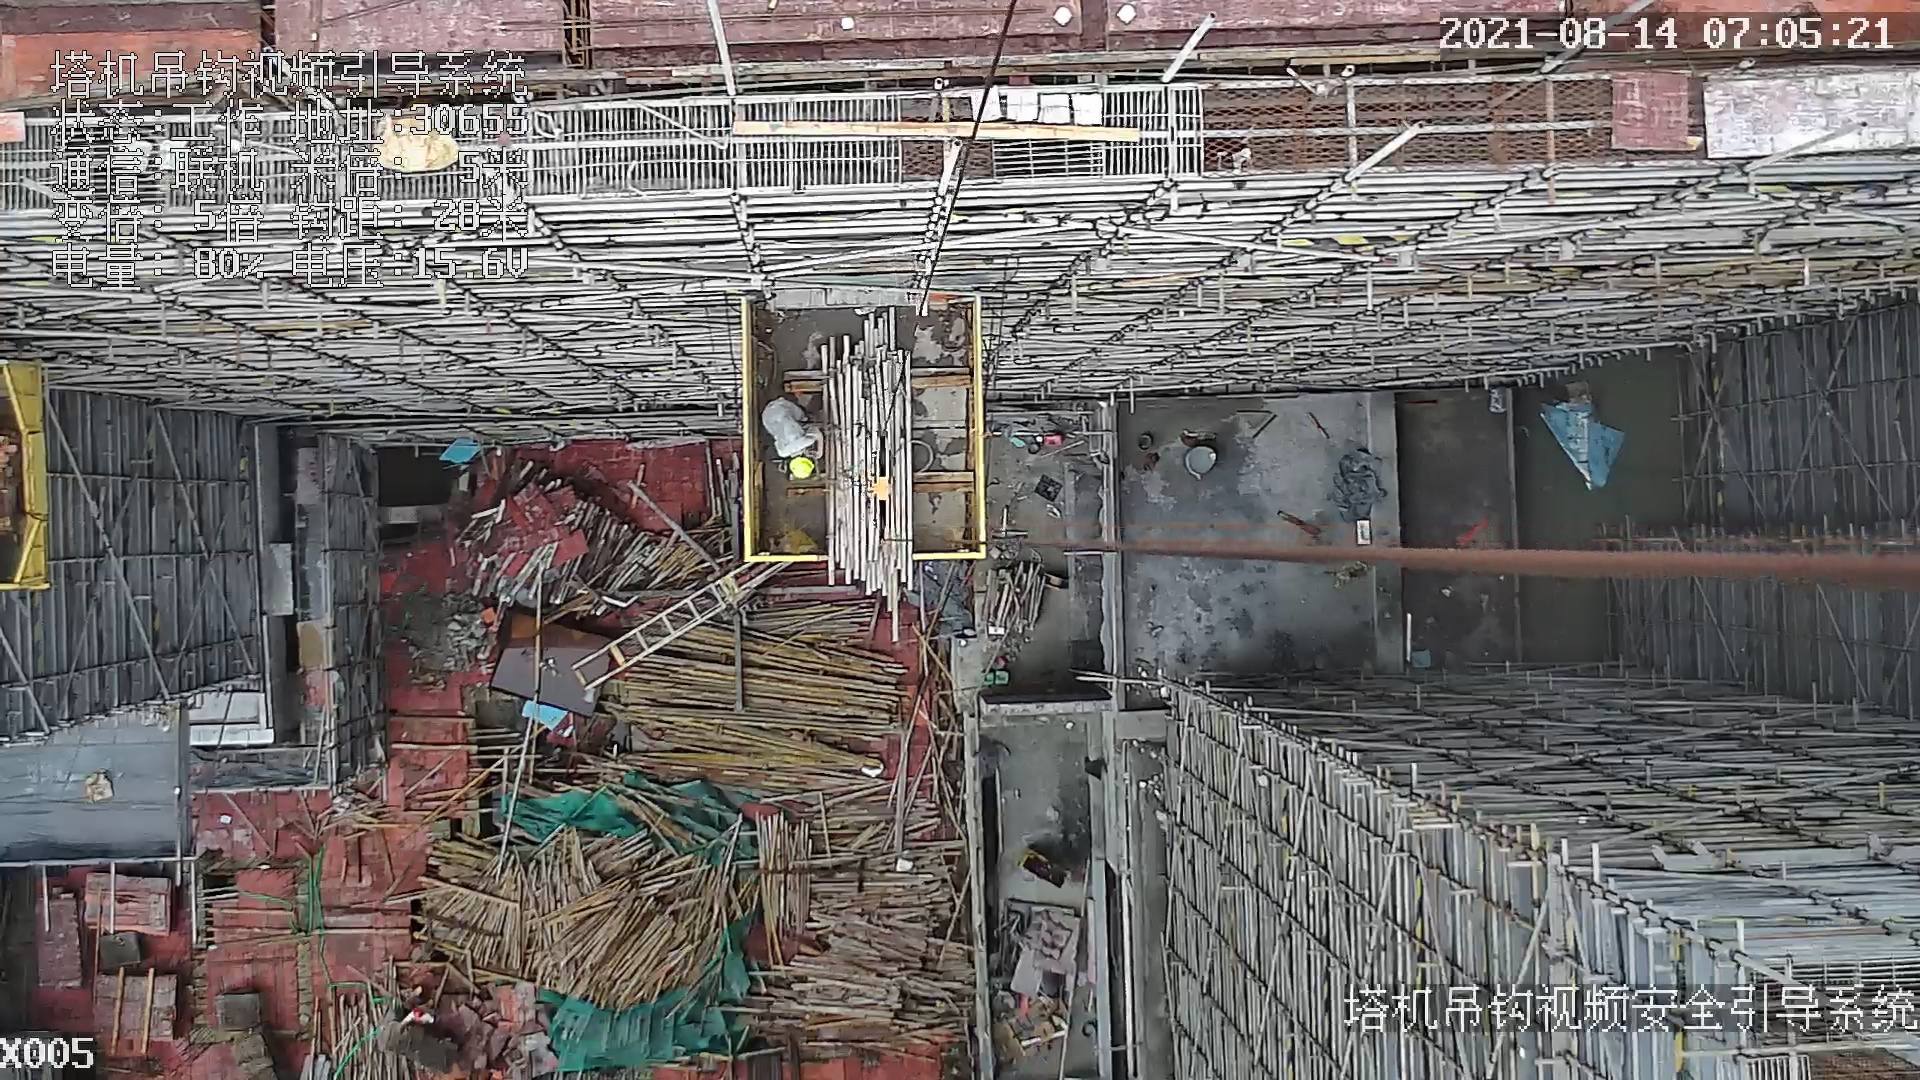helmet: (785, 454, 818, 481)
hook: (868, 432, 900, 547)
person: (763, 400, 835, 491)
